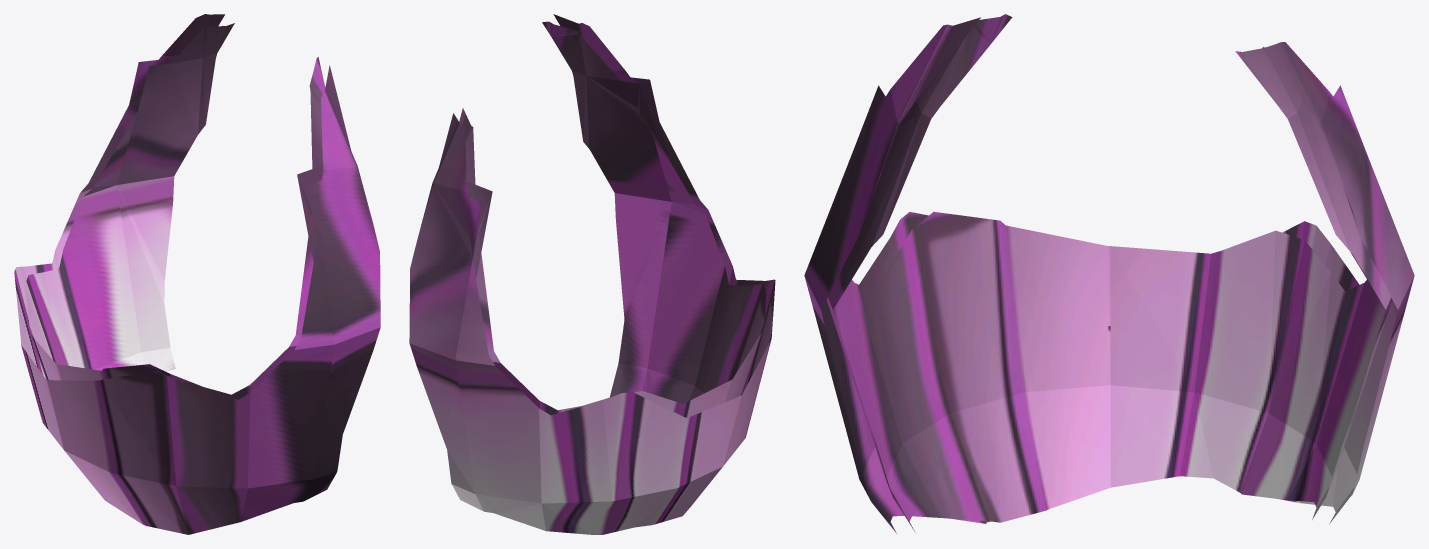
File: BVase4.glb
3 views of the same model, side by side, from view 1: azimuth 30°, elevation 25°; view 2: azimuth 150°, elevation 25°; view 3: azimuth 270°, elevation 25° (orthographic). The views are drawn at different scales.
Visible parts, largest first — view 1: BVase4; view 2: BVase4; view 3: BVase4.
Boxes of the visible parts, bbox=[...] form: BVase4: bbox=[14, 14, 380, 534]; BVase4: bbox=[409, 14, 775, 534]; BVase4: bbox=[804, 14, 1414, 533].
Size of the model in its own units: 87.1 by 151 by 139.
1 material, 1 textured.
